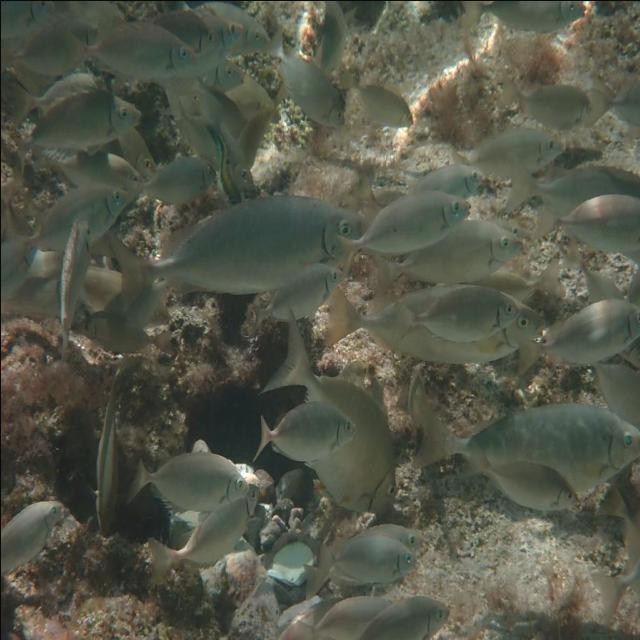Sokar Baligi: (329, 180, 473, 286), (5, 80, 146, 172), (257, 18, 351, 136), (56, 11, 204, 82), (121, 444, 258, 512), (239, 397, 369, 463), (381, 289, 525, 343)
